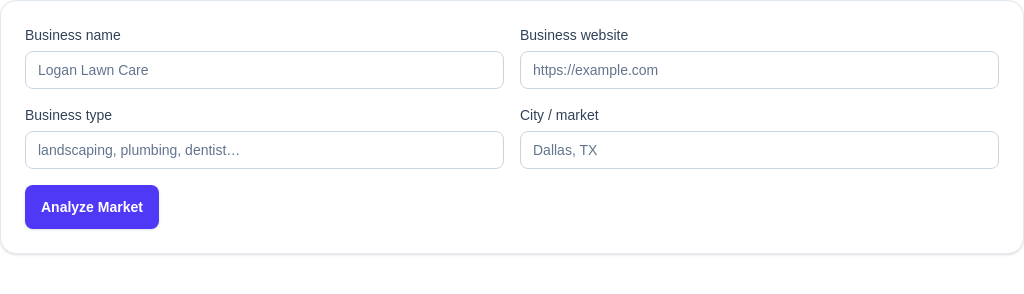
BusinessForm › blocks an invalid website with an inline message instead of submitting
The width and height of the screenshot is (1024, 294).
Type "Acme Plumbing" into the field with placeholder "Logan Lawn Care" at (264, 70), box [25,51,504,89]
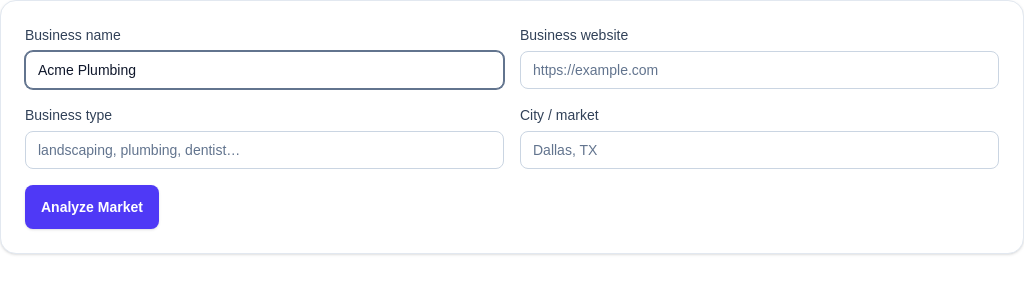
Type "not-a-valid-url-at-all" into the field with placeholder "https://example.com" at (760, 70), box [520,51,999,89]
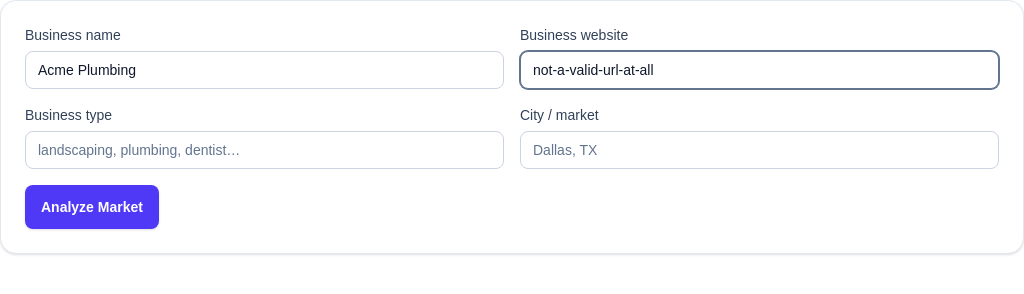
Type "plumbing" into the field with placeholder "landscaping, plumbing, dentist…" at (264, 150), box [25,131,504,169]
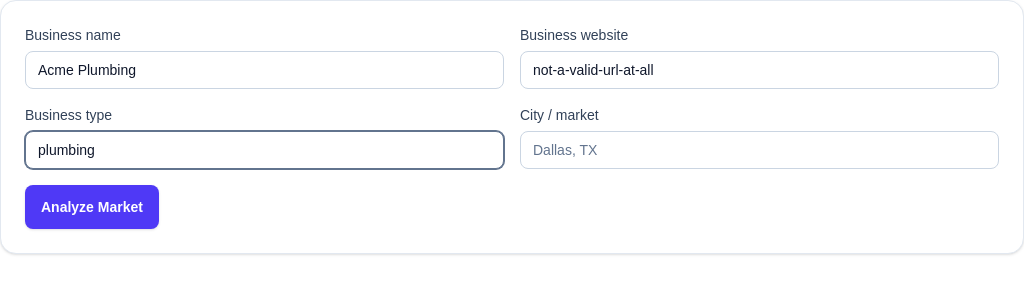
Type "Austin, TX" into the field with placeholder "Dallas, TX" at (760, 150), box [520,131,999,169]
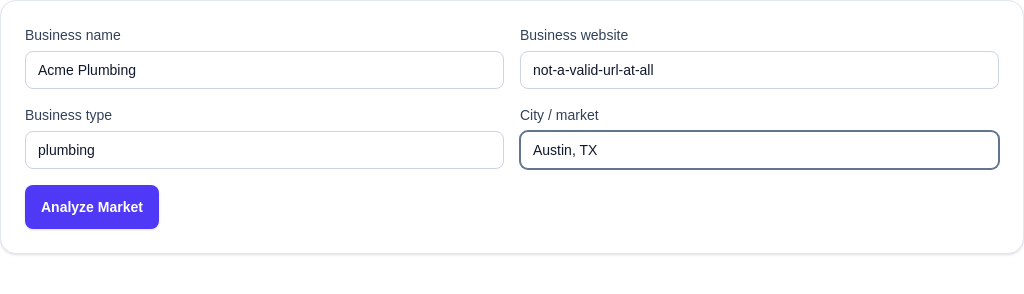
Click the button "Analyze Market" at (92, 207), box [25,185,159,229]
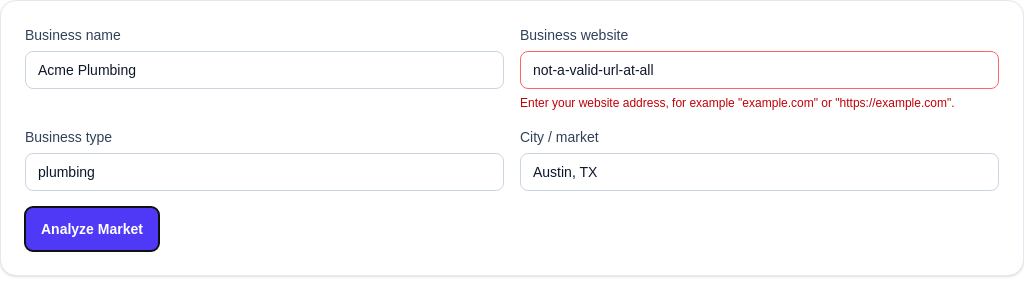
Result: the message shows "website address" at [520,96,955,110]
Type "x" into the field labelled "Business website" at (760, 70), box [520,51,999,89]
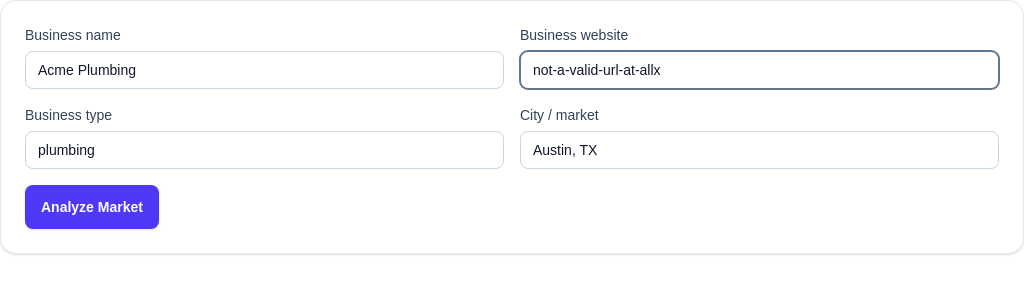
Result: the message "Enter your website address, for example \"example.com\" or \"https://example.com\"." is gone
